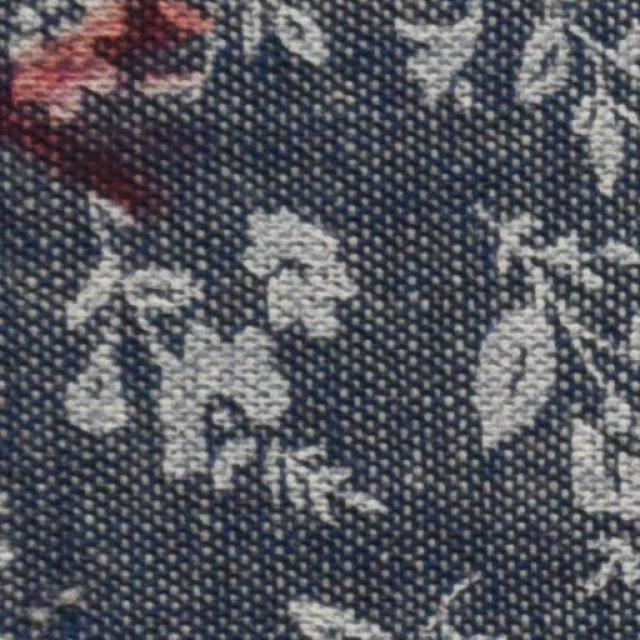Stain: (3, 0, 252, 215)
